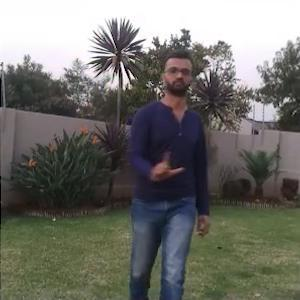land_hand: (143, 146, 185, 184)
